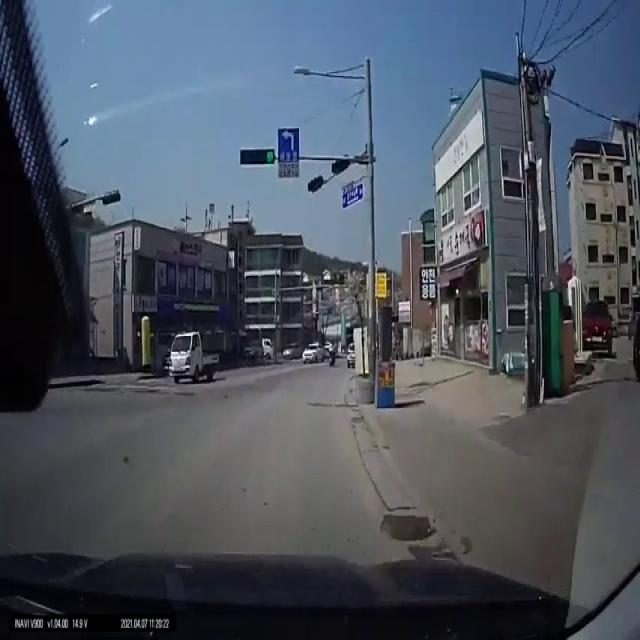Pothole: (378, 509, 437, 544)
